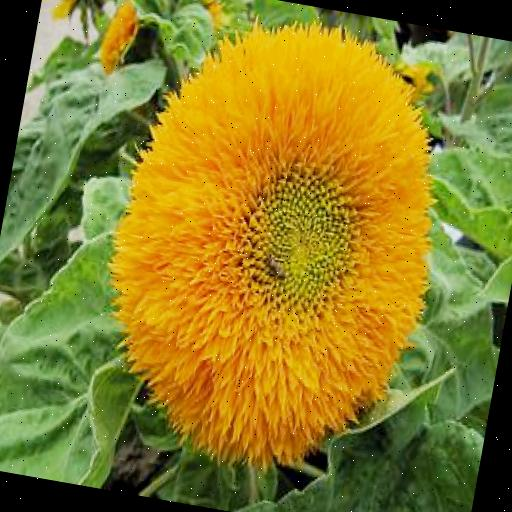sunflower: (83, 0, 468, 491)
